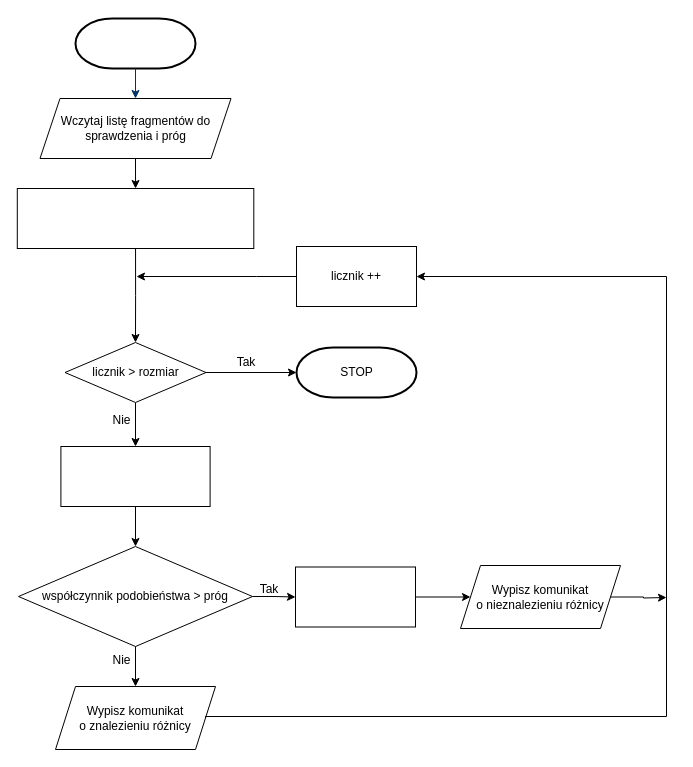
Some shapes in this 693 by 767 pixel diagram are drawn without their labels. Here are the shapes that lost their labels. From the top down, the centre of each, then its label:
At point 135,43: "START".
At point 135,218: "licznik = 0 rozmiar = długość listy do sprawdzenia".
At point 135,476: "Weź kolejny fragment z listy i oblicz współczynnik podobieństwa".
At point 355,596: "Usuń z listy do sprawdzenia".
